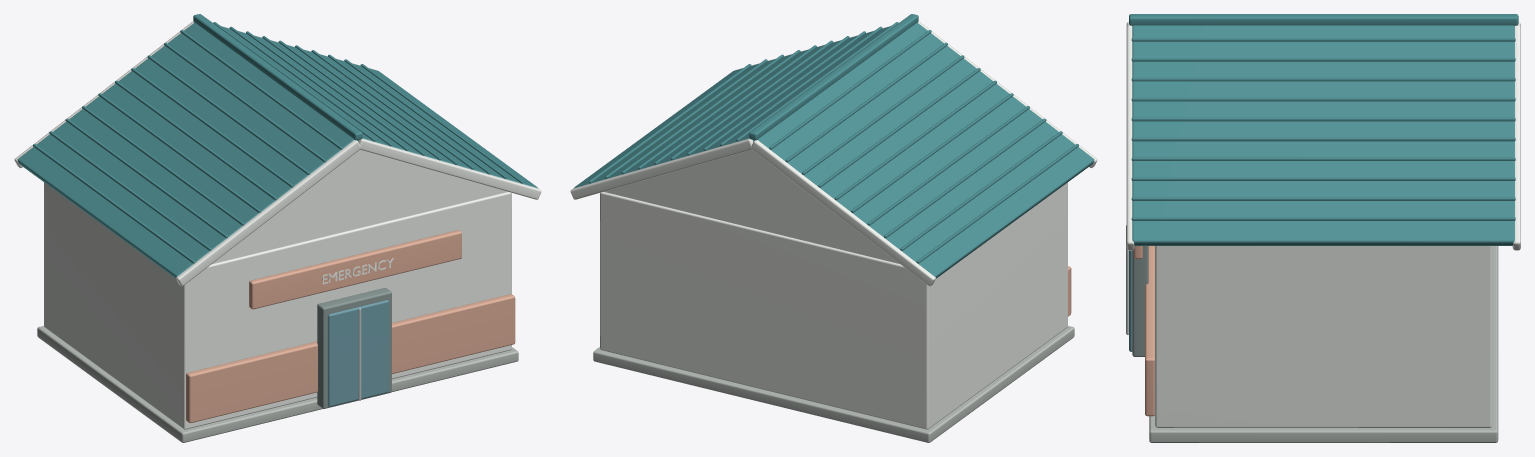
File: emergency.glb
3 views of the same model, side by side, from view 1: azimuth 30°, elevation 25°; view 2: azimuth 150°, elevation 25°; view 3: azimuth 270°, elevation 25° (orthographic). The views are drawn at different scales.
Parts seen in each view (by area): view 1: Building shell.001, Pitched roof plane.002, Facade accent.001, Triangular gable walls.001, Pitched roof plane.003, Department sign.001, Foundation.001, Entrance double glass doors.001, White gable fascia.004, Entrance door frame.001, White gable fascia.006, Roof ridge cap.001 (+21 smaller); view 2: Building shell.001, Pitched roof plane.002, Triangular gable walls.001, Pitched roof plane.003, Foundation.001, White gable fascia.005, White gable fascia.007, Roof ridge cap.001, Roof tile course.021, Roof tile course.020, Roof tile course.029, Roof tile course.022 (+17 smaller); view 3: Pitched roof plane.003, Building shell.001, Foundation.001, Roof ridge cap.001, Roof tile course.034, Roof tile course.033, Roof tile course.032, Roof tile course.035, Facade accent.001, White gable fascia.006, Roof tile course.030, Roof tile course.037 (+7 smaller).
Part boxes in pixels (x1,y1,x2,y2): Building shell.001: (44,182,511,429); Pitched roof plane.002: (17,22,357,278); Facade accent.001: (186,294,515,423); Triangular gable walls.001: (212,150,507,263); Pitched roof plane.003: (222,26,537,188); Department sign.001: (249,230,461,309); Foundation.001: (37,326,518,442); Entrance double glass doors.001: (327,300,389,406); White gable fascia.004: (176,140,360,286); Entrance door frame.001: (317,288,391,408); White gable fascia.006: (358,138,541,199); Roof ridge cap.001: (193,14,362,140); Building shell.001: (600,182,1067,429); Pitched roof plane.002: (754,22,1094,278); Triangular gable walls.001: (604,150,899,263); Pitched roof plane.003: (574,26,889,188); Foundation.001: (593,326,1074,442); White gable fascia.005: (751,140,935,286); White gable fascia.007: (570,138,753,199); Roof ridge cap.001: (749,14,918,140); Roof tile course.021: (785,42,947,162); Roof tile course.020: (769,30,931,149); Roof tile course.029: (916,144,1078,263); Roof tile course.022: (802,55,964,174); Pitched roof plane.003: (1132,25,1514,245); Building shell.001: (1155,246,1492,427); Foundation.001: (1149,246,1498,442); Roof ridge cap.001: (1129,14,1518,25); Roof tile course.034: (1131,117,1515,121); Roof tile course.033: (1131,97,1515,101); Roof tile course.032: (1131,77,1515,81); Roof tile course.035: (1131,137,1515,141); Facade accent.001: (1145,246,1154,416); White gable fascia.006: (1126,25,1134,250); Roof tile course.030: (1131,38,1515,41); Roof tile course.037: (1131,177,1515,180).
Size of the model in its own units: 8.63 by 6.26 by 6.79.
